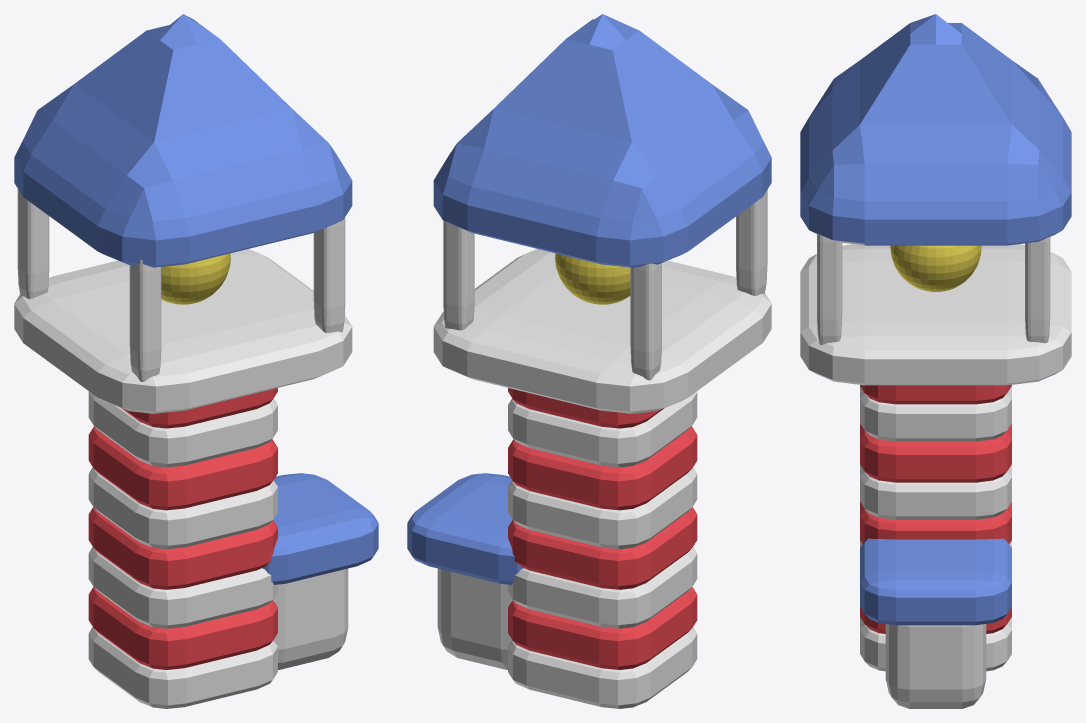
The model's file is LightHousePerfect.fbx.
3 renders of one model, left to right at view 1: azimuth 30°, elevation 25°; view 2: azimuth 150°, elevation 25°; view 3: azimuth 270°, elevation 25°, orthographic. The views are drawn at different scales.
Visible parts, largest first — view 1: Cube.009, Cube.008, Cube.015, Cube.005, Cube.001, Cube.003, Cube.004, Cube, Cube.006, Cube.002, Cube.014, Cube.010 (+4 smaller); view 2: Cube.009, Cube.008, Cube.015, Cube.005, Cube.001, Cube.003, Cube.004, Cube, Cube.006, Cube.002, Cube.014, Cube.013 (+4 smaller); view 3: Cube.009, Cube.008, Cube.015, Cube.014, Cube.005, Cube.004, Cube.006, Sphere, Cube.003, Cube.007, Cube.011, Cube.012 (+2 smaller).
Part boxes in pixels (x1=…): Cube.009: x1=14, y1=14, x2=352, y2=267; Cube.008: x1=14, y1=249, x2=352, y2=413; Cube.015: x1=262, y1=473, x2=378, y2=584; Cube.005: x1=88, y1=426, x2=277, y2=510; Cube.001: x1=88, y1=587, x2=277, y2=669; Cube.003: x1=88, y1=507, x2=277, y2=589; Cube.004: x1=88, y1=467, x2=277, y2=549; Cube: x1=88, y1=627, x2=277, y2=708; Cube.006: x1=88, y1=391, x2=277, y2=467; Cube.002: x1=88, y1=547, x2=277, y2=628; Cube.014: x1=272, y1=568, x2=348, y2=669; Cube.010: x1=129, y1=259, x2=161, y2=381; Cube.009: x1=433, y1=14, x2=771, y2=267; Cube.008: x1=433, y1=249, x2=771, y2=413; Cube.015: x1=407, y1=473, x2=523, y2=584; Cube.005: x1=508, y1=426, x2=697, y2=510; Cube.001: x1=508, y1=587, x2=697, y2=669; Cube.003: x1=508, y1=507, x2=697, y2=589; Cube.004: x1=508, y1=467, x2=697, y2=549; Cube: x1=508, y1=627, x2=697, y2=708; Cube.006: x1=508, y1=391, x2=697, y2=467; Cube.002: x1=508, y1=547, x2=697, y2=628; Cube.014: x1=437, y1=568, x2=513, y2=669; Cube.013: x1=630, y1=263, x2=661, y2=380; Cube.009: x1=800, y1=14, x2=1071, y2=245; Cube.008: x1=800, y1=244, x2=1071, y2=385; Cube.015: x1=860, y1=538, x2=1011, y2=625; Cube.014: x1=885, y1=624, x2=986, y2=708; Cube.005: x1=860, y1=423, x2=1011, y2=482; Cube.004: x1=860, y1=464, x2=1011, y2=519; Cube.006: x1=860, y1=386, x2=1011, y2=441; Sphere: x1=890, y1=245, x2=981, y2=291; Cube.003: x1=860, y1=502, x2=1011, y2=543; Cube.007: x1=860, y1=385, x2=1011, y2=404; Cube.011: x1=817, y1=234, x2=842, y2=344; Cube.012: x1=1025, y1=237, x2=1050, y2=343.
Size of the model in its own units: 425 by 922 by 357.
